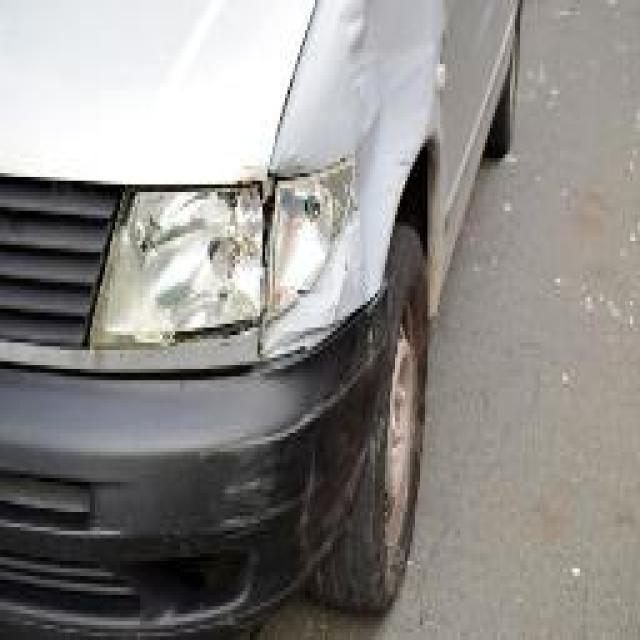Bumper: (145, 343, 395, 565)
Fender: (315, 0, 425, 309)
Light: (112, 192, 322, 309)
